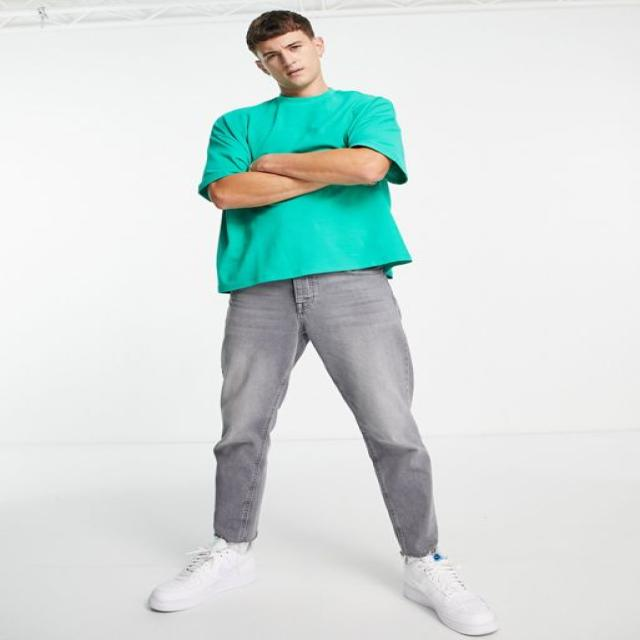tshirt: (196, 87, 414, 293)
